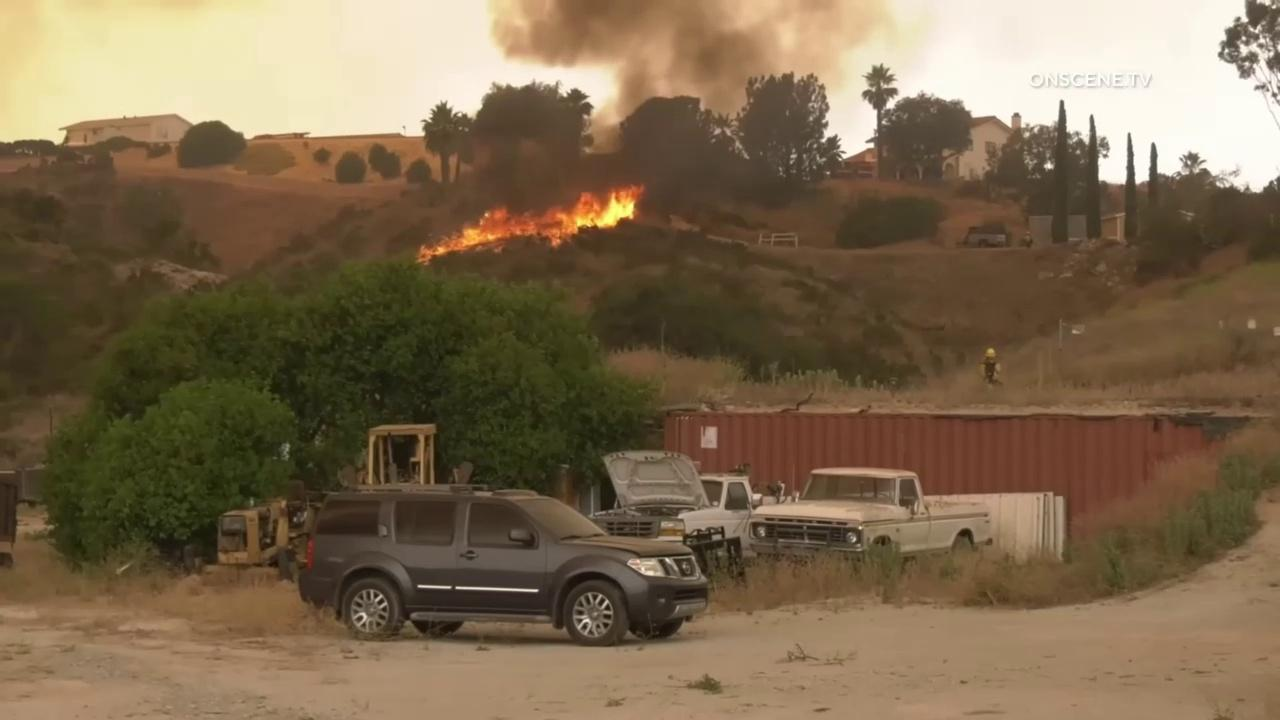fire: (413, 182, 646, 267)
smoke: (424, 0, 892, 243)
